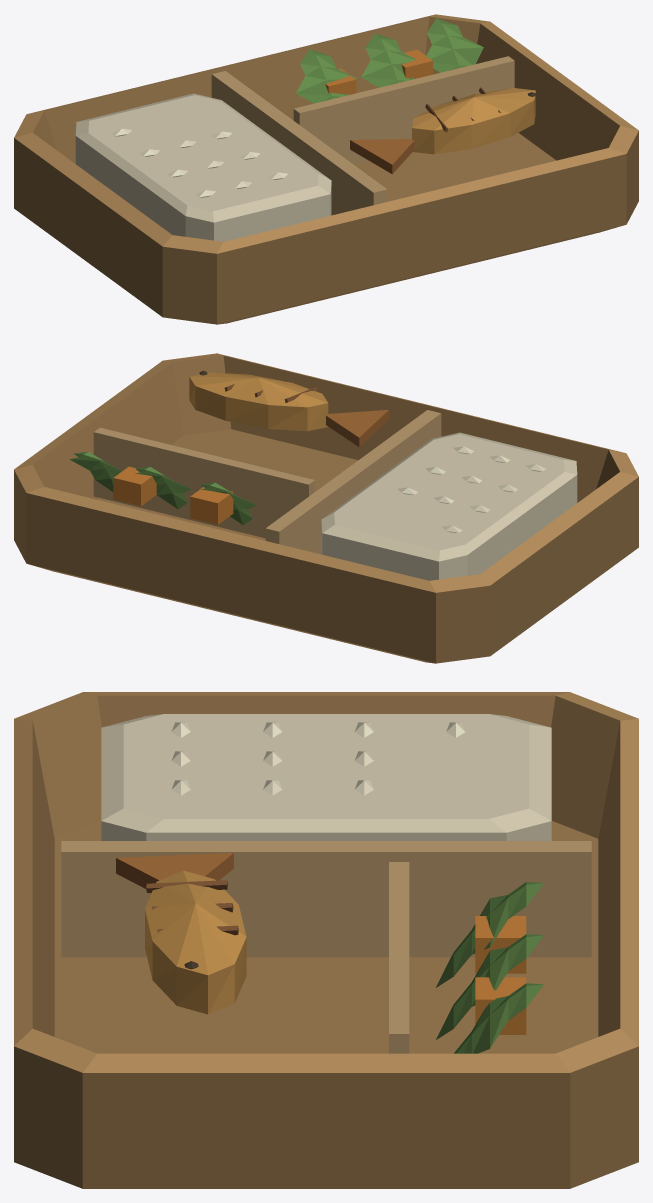
File: bento_fish.glb
The picture shows the model from 3 angles, top to bottom: view 1: azimuth 30°, elevation 25°; view 2: azimuth 150°, elevation 25°; view 3: azimuth 270°, elevation 25°; orthographic projection. The views are drawn at different scales.
Visible parts, largest first — view 1: food; view 2: food; view 3: food.
Boxes of the visible parts, box(x1,y1,x2,y2) form: food: box(14, 14, 638, 324); food: box(14, 353, 638, 663); food: box(14, 692, 638, 1188).
Bounding box in the file's own units: 0.62 × 0.1495 × 0.43.
